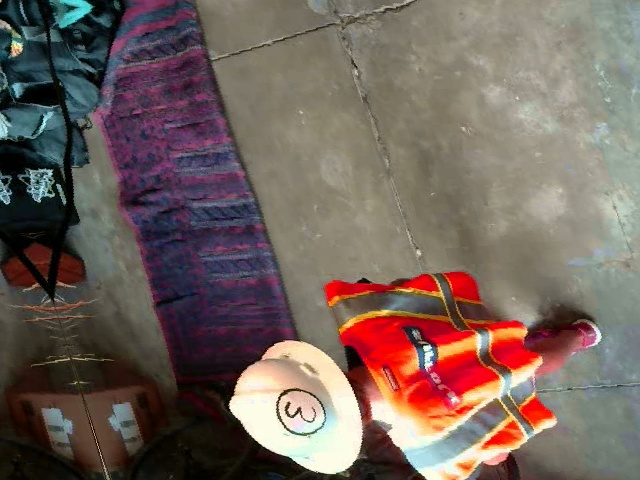three: (268, 387, 332, 438)
